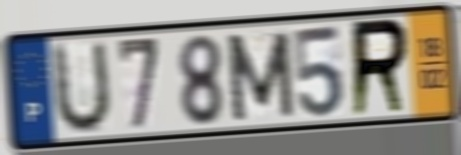5: (290, 21, 347, 121)
7: (115, 35, 162, 134)
8: (174, 31, 225, 129)
M: (222, 28, 298, 125)
R: (349, 15, 411, 122)
U: (52, 36, 114, 139)
